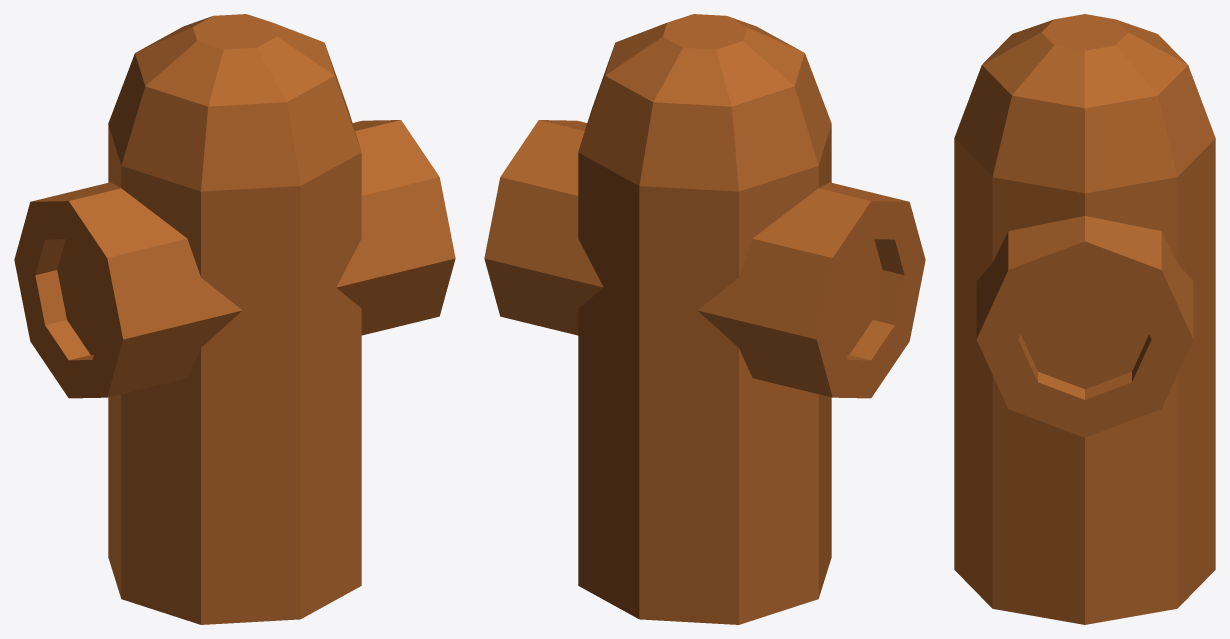
The model's file is hydrant.fbx.
3 views of the same model, side by side, from view 1: azimuth 30°, elevation 25°; view 2: azimuth 150°, elevation 25°; view 3: azimuth 270°, elevation 25° (orthographic).
Visible parts, largest first — view 1: Traffic_cone.001; view 2: Traffic_cone.001; view 3: Traffic_cone.001.
Part boxes in pixels (bbox=[...]): Traffic_cone.001: bbox=[14, 14, 455, 624]; Traffic_cone.001: bbox=[484, 14, 925, 624]; Traffic_cone.001: bbox=[954, 14, 1215, 624].
Size of the model in its own units: 98.47 by 153 by 67.32.
